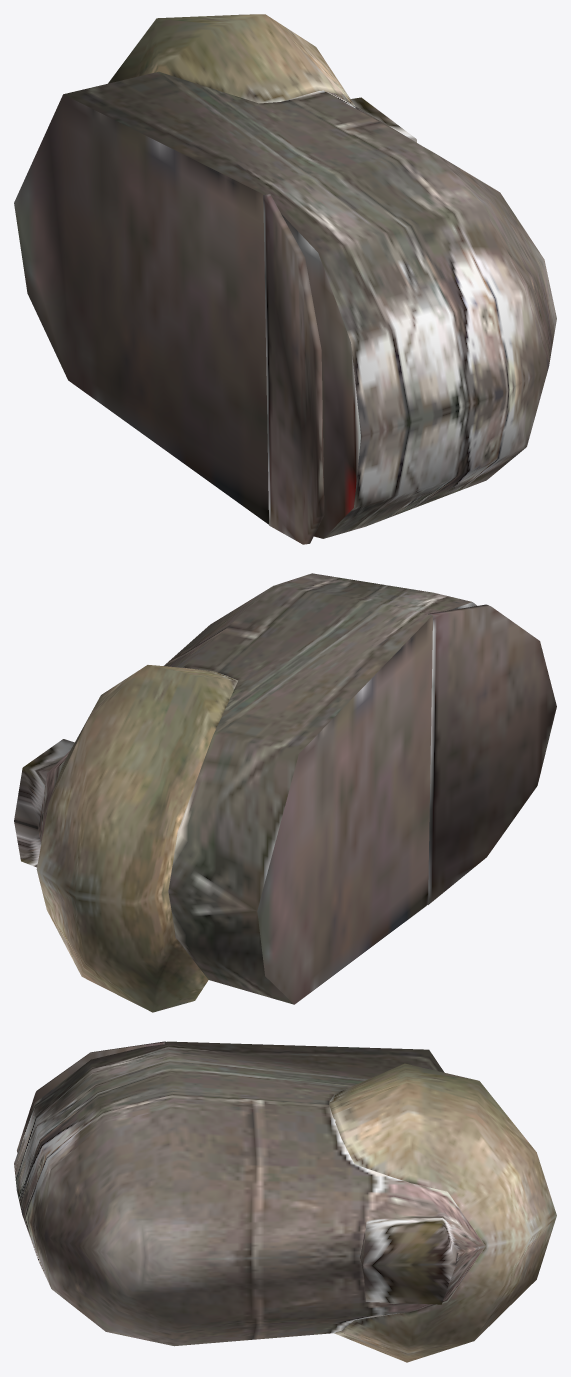
The model's file is poi_ev9d9head_l0.fbx.
3 renders of one model, top to bottom at view 1: azimuth 30°, elevation 25°; view 2: azimuth 150°, elevation 25°; view 3: azimuth 270°, elevation 25°, orthographic. The views are drawn at different scales.
Parts seen in each view (by area): view 1: mesh_node; view 2: mesh_node; view 3: mesh_node.
Part boxes in pixels (x1,y1,x2,y2): mesh_node: (14,14,556,544); mesh_node: (14,573,556,1012); mesh_node: (14,1041,556,1362).
Bounding box in the file's own units: 0.2182 × 0.2344 × 0.4164.
Materials: 1 (1 with a texture image).
